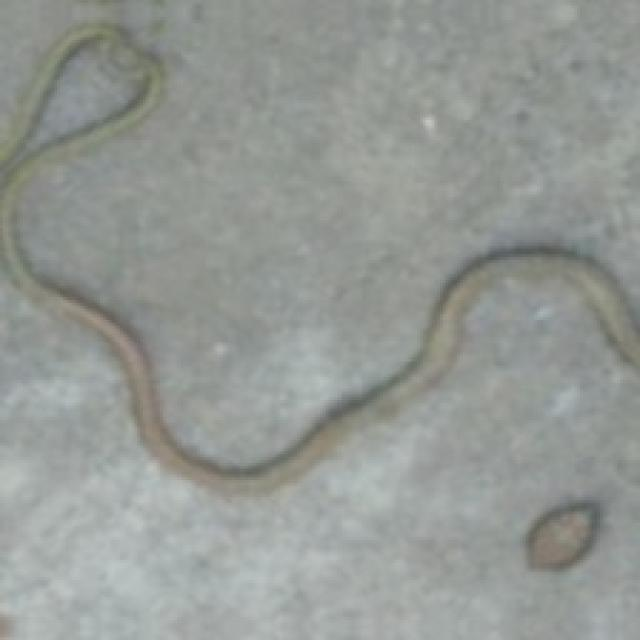paradise tree snake: (0, 0, 637, 466), (0, 0, 637, 463), (0, 254, 637, 637), (17, 43, 154, 157), (14, 46, 140, 157), (3, 29, 97, 154)
